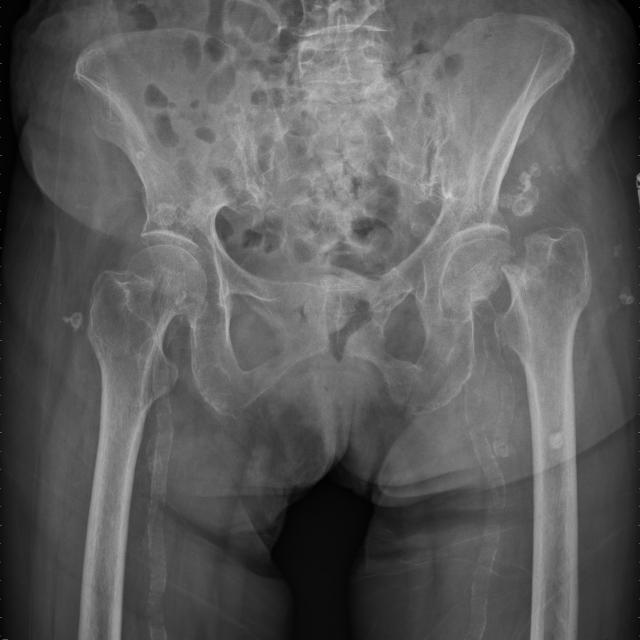left-neck: (495, 222, 592, 431), (441, 238, 516, 314)
normal-right: (87, 244, 207, 464)
